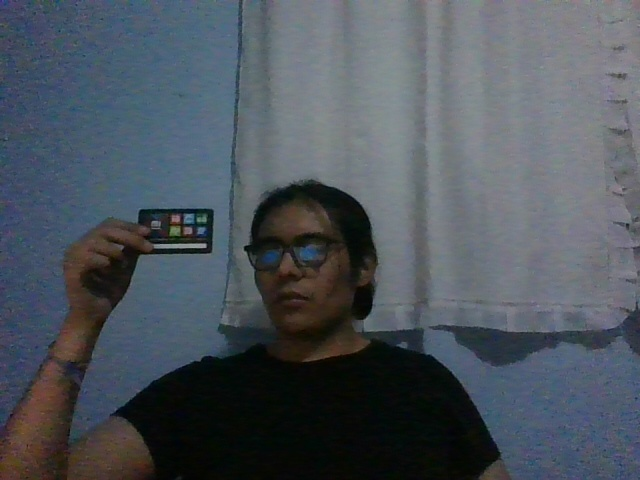tarjeta: (136, 208, 214, 255)
